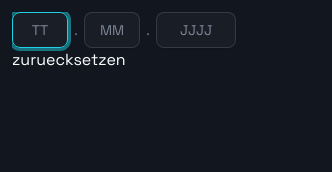
Test: BirthdateField › behält die führende Null, wenn der Fokus weiterspringt
The image size is (332, 172).
In the field with placeholder "TT": (40, 30) [12,12,68,48], type "0"
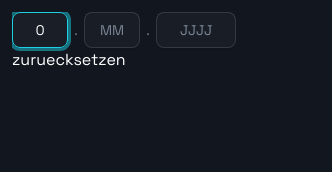
Replace the text in the field with placeholder "TT" with "05": (40, 30) [12,12,68,48]
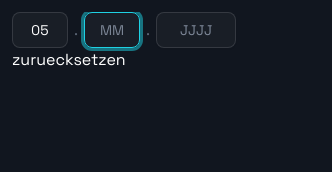
In the field with placeholder "MM": (112, 30) [84,12,140,48], type "0"
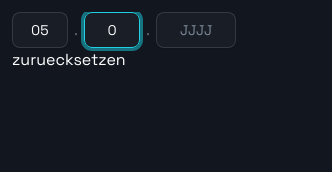
Replace the text in the field with placeholder "MM" with "05": (112, 30) [84,12,140,48]
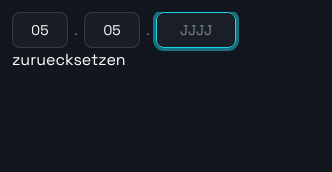
In the field with placeholder "JJJJ": (196, 30) [156,12,236,48], type "2015"
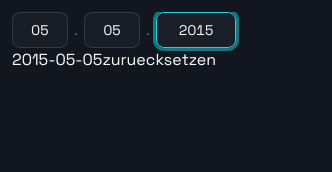
Expected: the text with test id "iso" reads "2015-05-05", [12,49,102,70]
